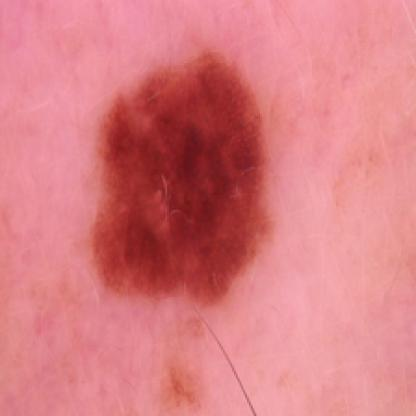benign: (95, 50, 273, 307)
